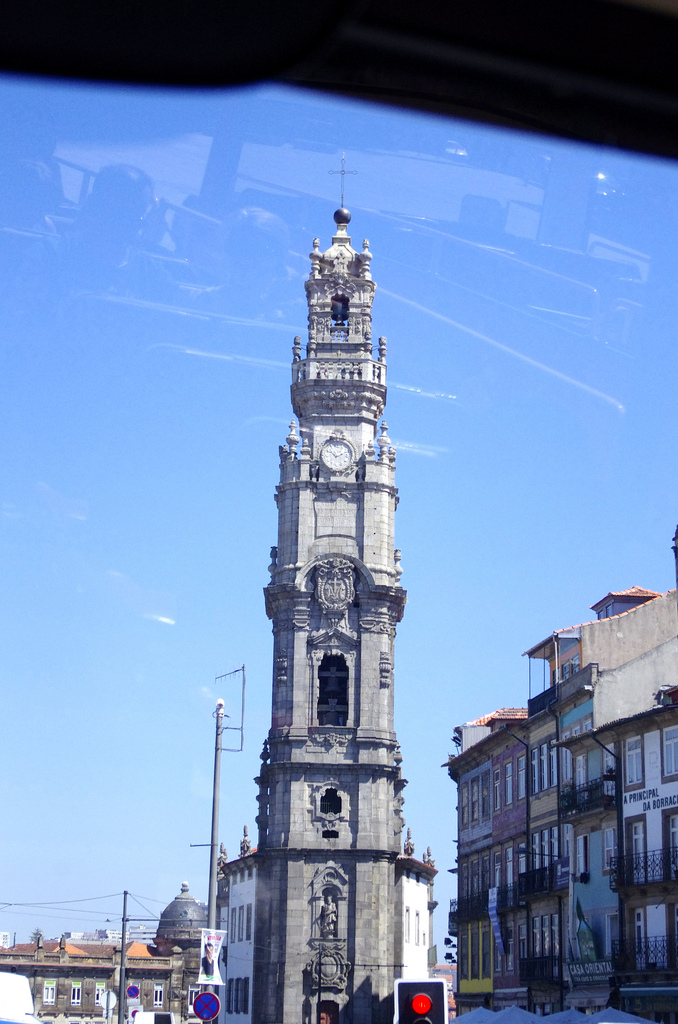clerigos: (248, 156, 407, 1023)
